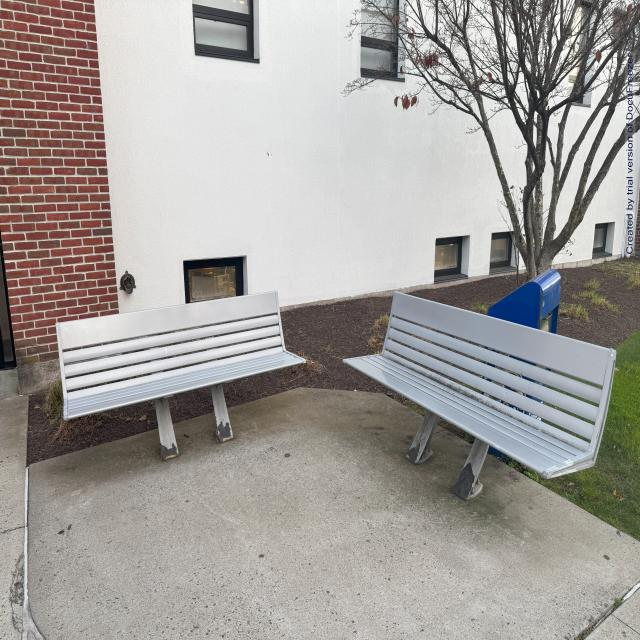chair: (344, 284, 620, 523), (42, 284, 316, 458)
